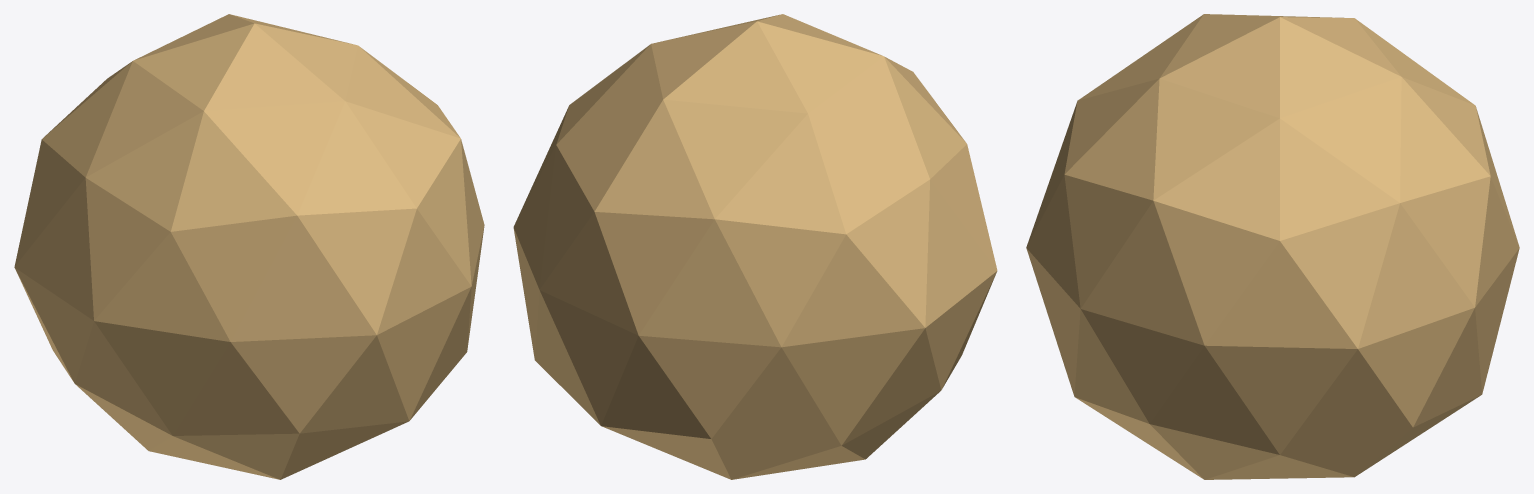
File: Planet_Venus.glb
3 views of the same model, side by side, from view 1: azimuth 30°, elevation 25°; view 2: azimuth 150°, elevation 25°; view 3: azimuth 270°, elevation 25° (orthographic). The views are drawn at different scales.
Visible parts, largest first — view 1: Planet_Venus; view 2: Planet_Venus; view 3: Planet_Venus.
Part boxes in pixels (x1,y1,x2,y2): Planet_Venus: [14, 14, 484, 479]; Planet_Venus: [513, 14, 997, 479]; Planet_Venus: [1026, 14, 1519, 479].
Size of the model in its own units: 1.97 by 2.04 by 2.01.
